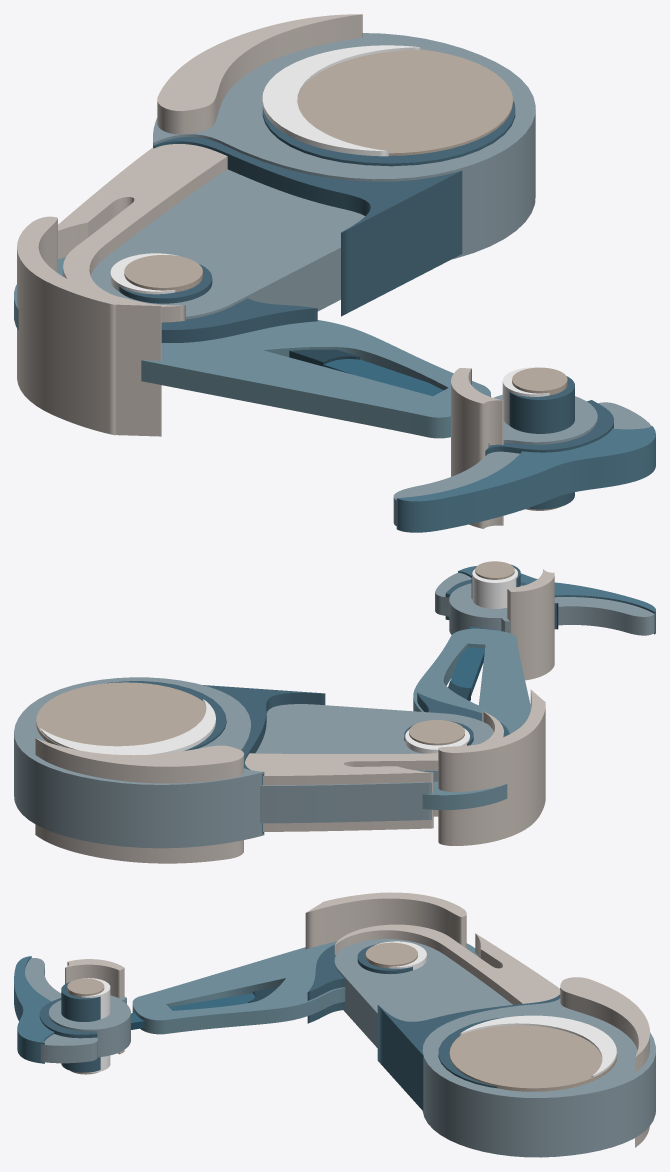
The model's file is emoji_u1f9bf.glb.
The picture shows the model from 3 angles, top to bottom: view 1: azimuth 30°, elevation 25°; view 2: azimuth 150°, elevation 25°; view 3: azimuth 270°, elevation 25°; orthographic projection. The views are drawn at different scales.
Visible parts, largest first — view 1: emoji_u1f9bf; view 2: emoji_u1f9bf; view 3: emoji_u1f9bf.
Boxes of the visible parts, x1,y1,x2,y2 form: emoji_u1f9bf: [14, 14, 655, 532]; emoji_u1f9bf: [14, 561, 655, 863]; emoji_u1f9bf: [14, 892, 655, 1157].
Size of the model in its own units: 0.0235 by 0.0052 by 0.0333.
